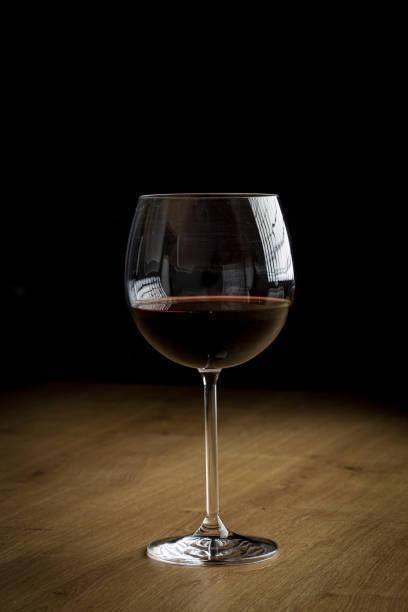glass-wine: (123, 189, 296, 568)
